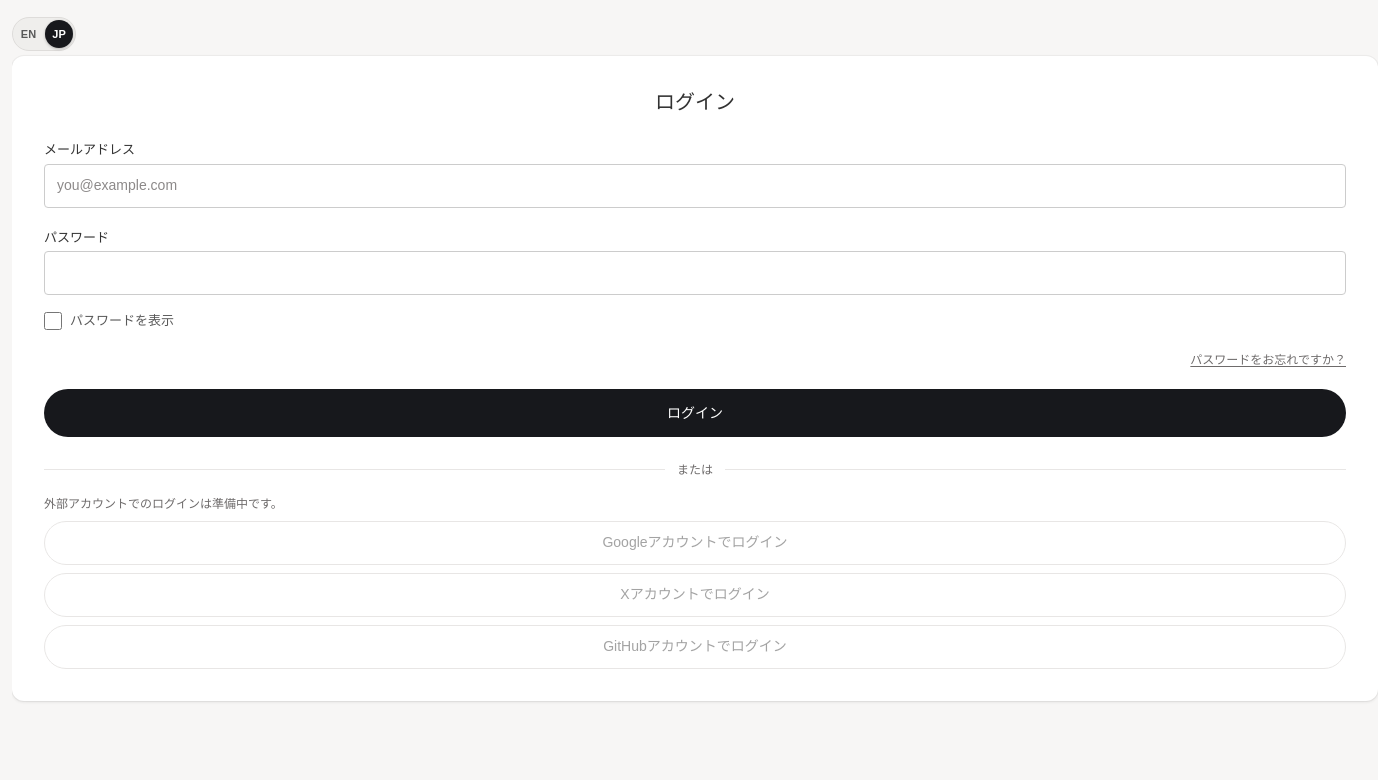
Test: field errors follow the selected language and disappear after correction
Type "invalid-email" into the field labelled "メールアドレス" at (695, 186), box [44,164,1346,208]
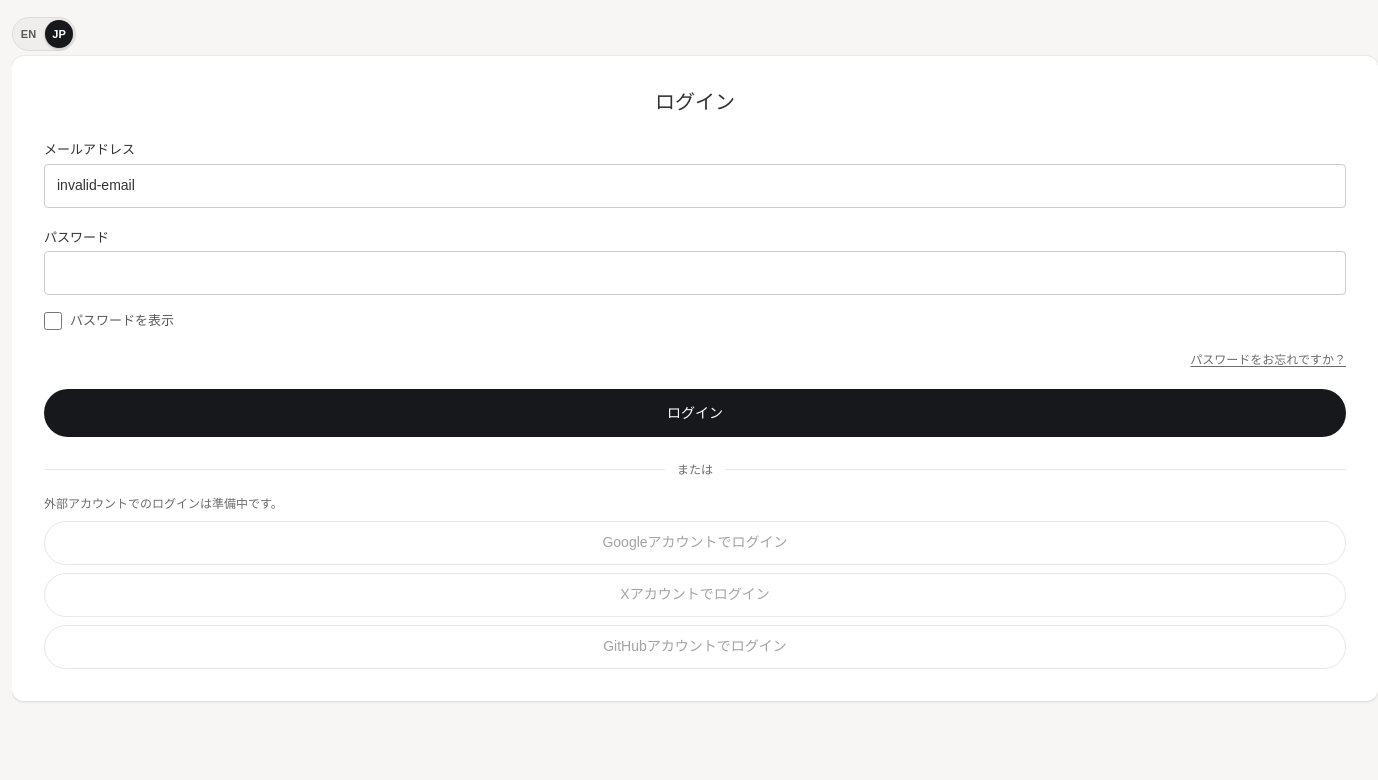
Click the button "ログイン" at (695, 412), box [44,388,1346,436]
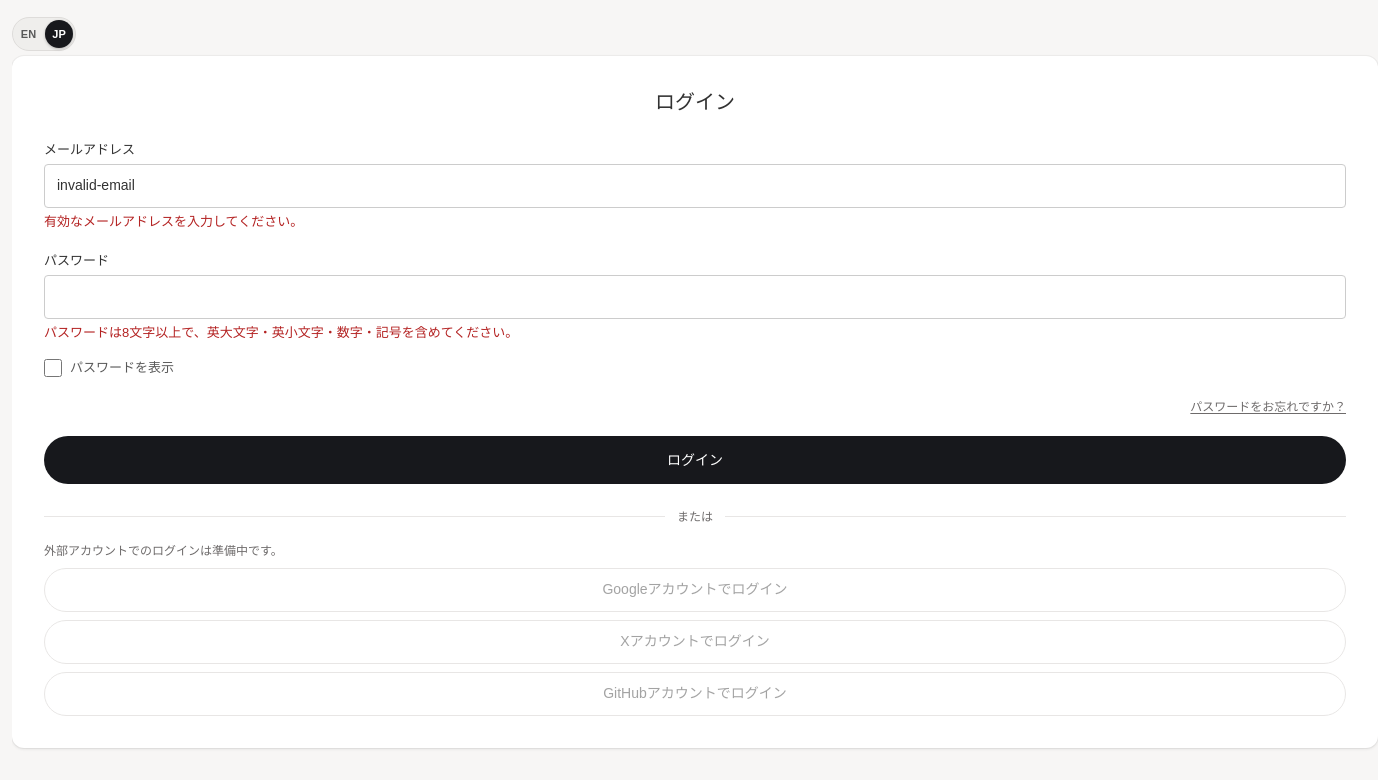
Expected: the number of messages is 2, [44,214,303,228]; [44,324,518,340]
Click the switch named "表示言語" at (44, 34), box [12,12,76,56]
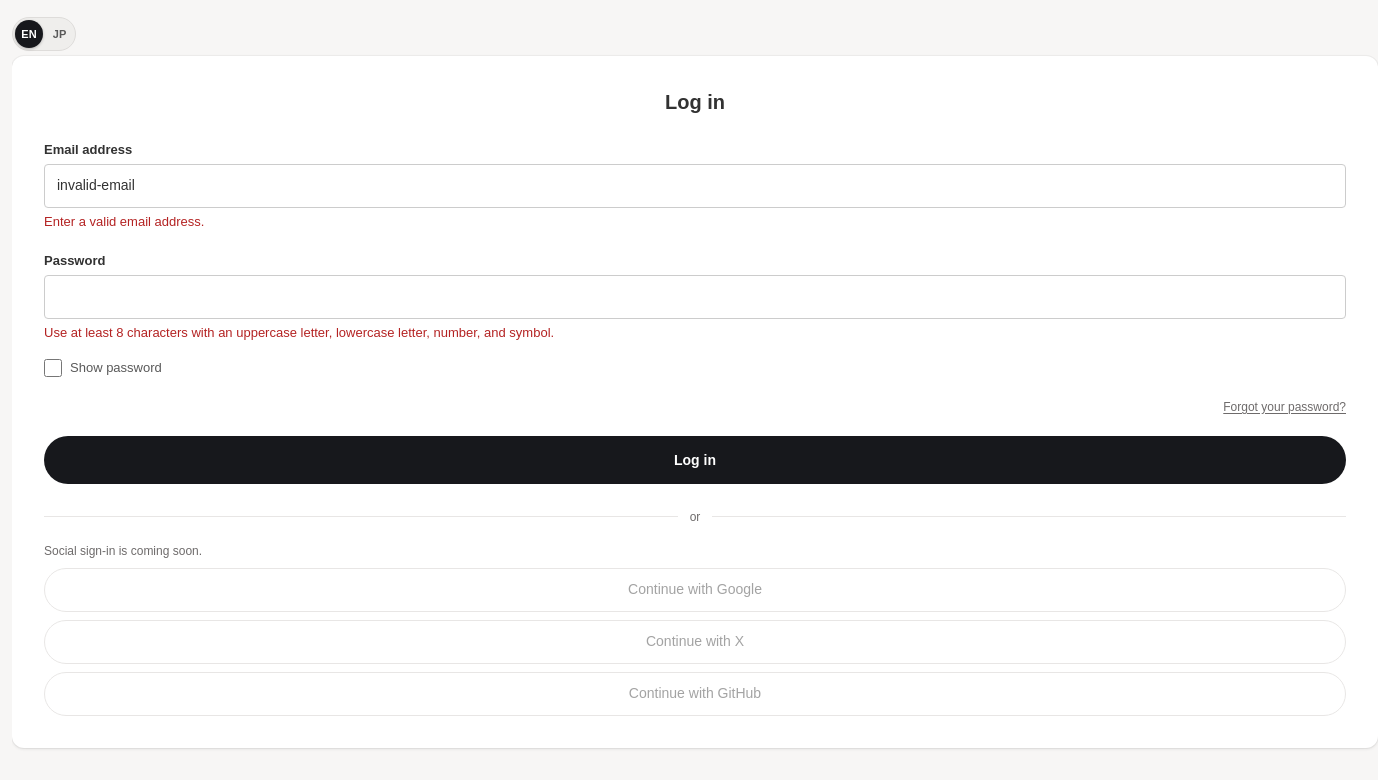
Expected: the messages read "Enter a valid email address.", "Use at least 8 characters with an uppercase letter, lowercase letter, number, and symbol.", in this order, [44,214,204,228]; [44,324,554,340]
Replace the text in the field labelled "Email address" with "test@example.com" at (695, 186), box [44,164,1346,208]
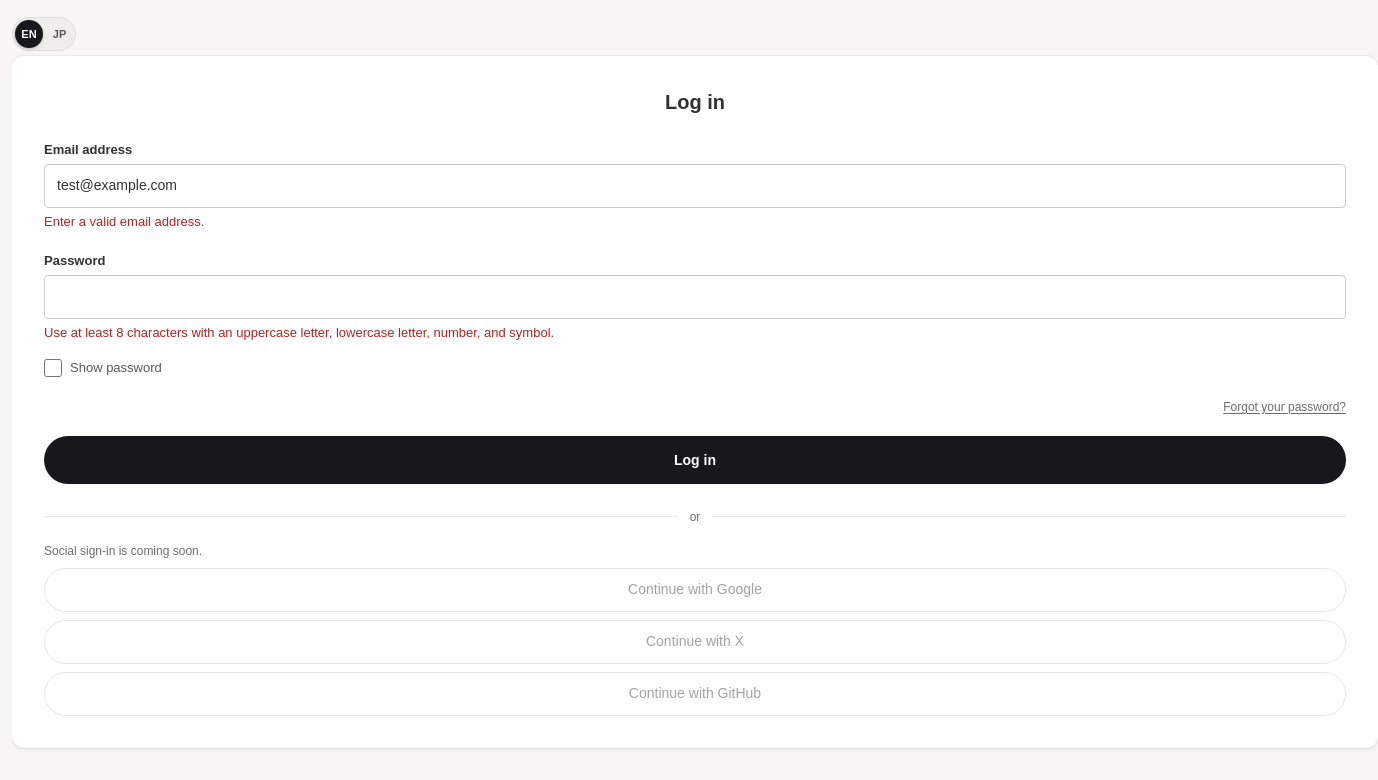
Type "Password1!" into the password field labelled "Password" at (695, 296), box [44,274,1346,318]
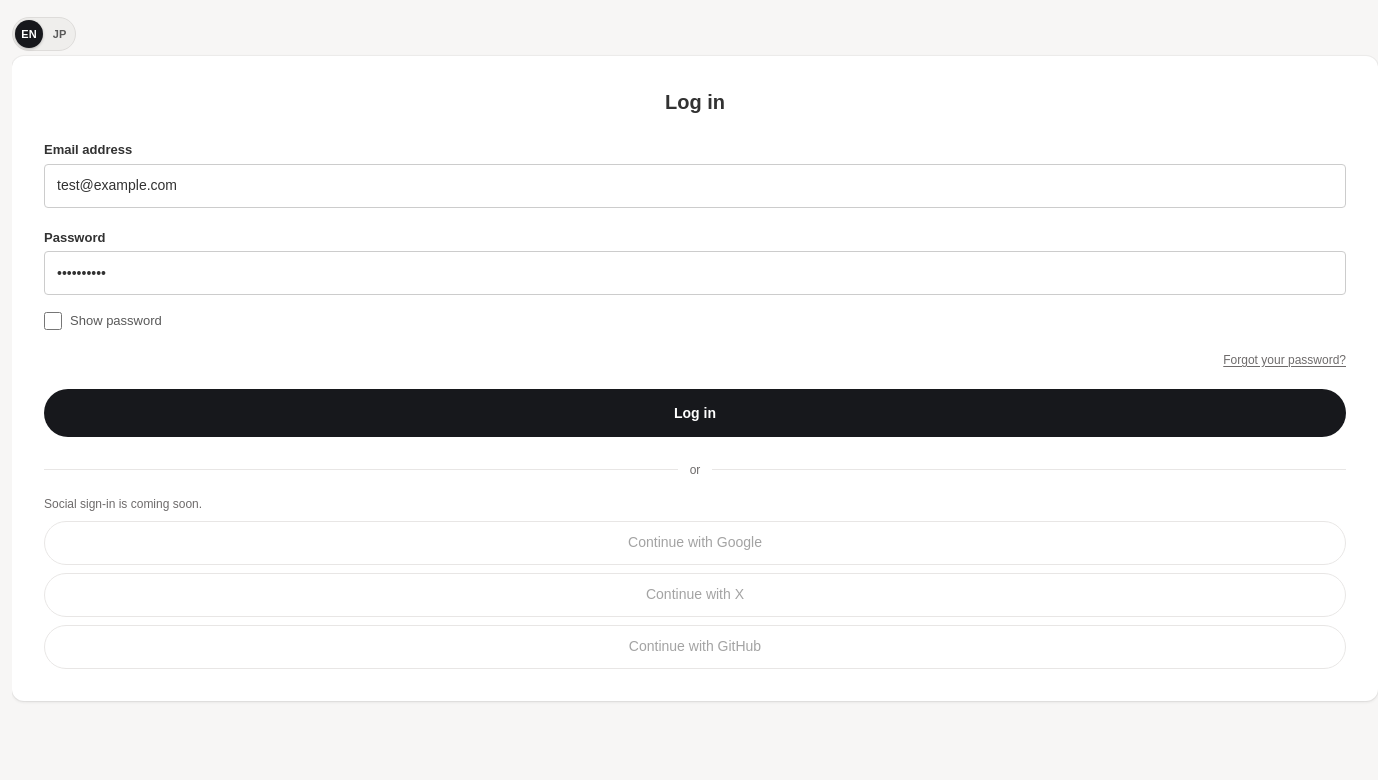
Expected: no messages are shown
Click the button "Log in" at (695, 412), box [44,388,1346,436]
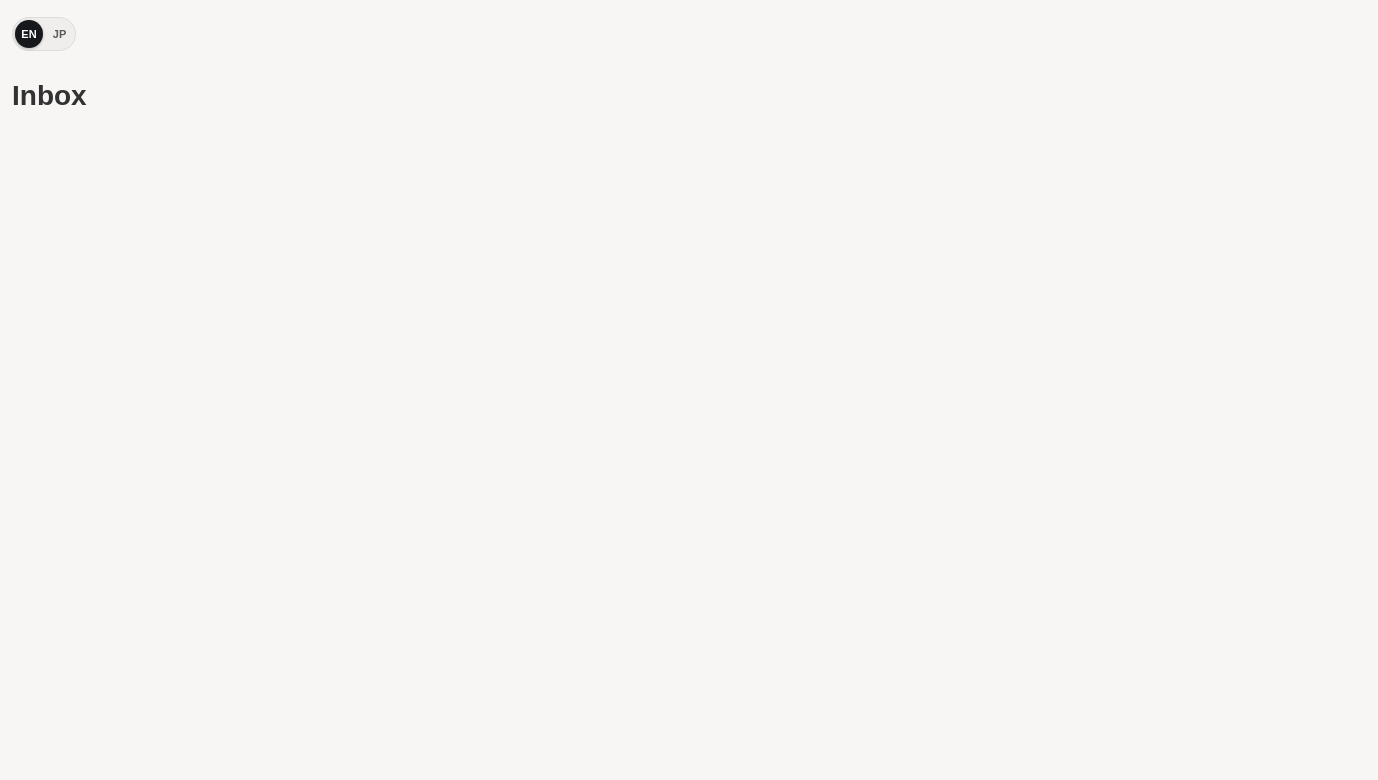
Expected: the heading "Inbox" is shown, [12,80,87,111]
